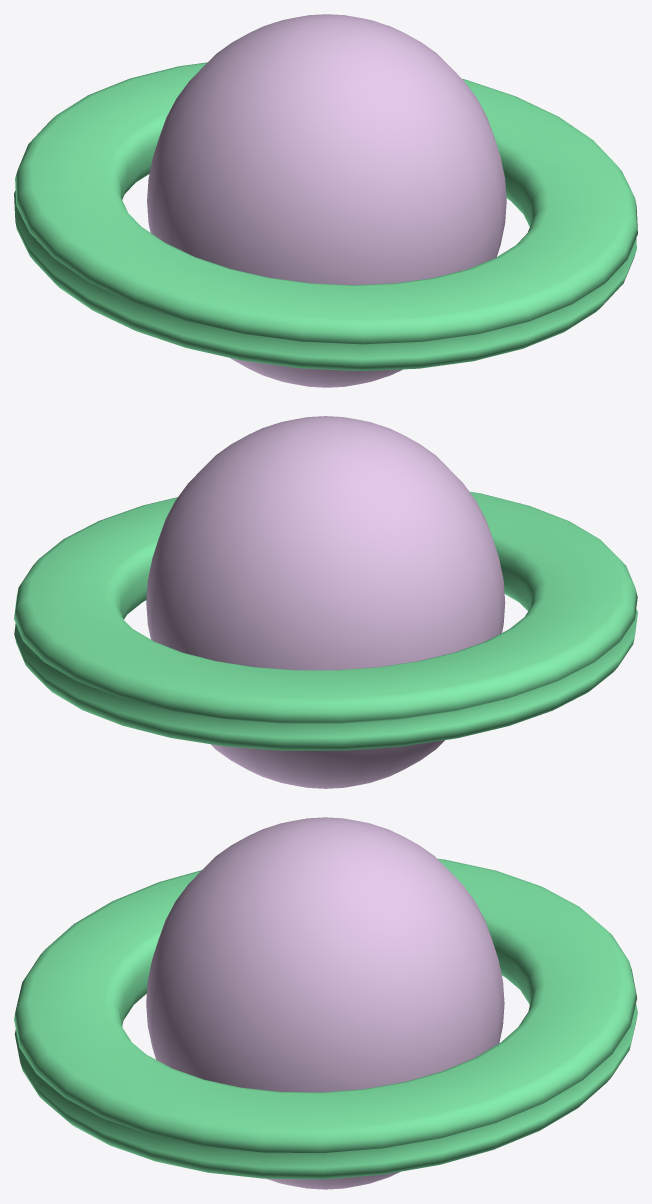
File: planetOne.gltf
3 renders of one model, top to bottom at view 1: azimuth 30°, elevation 25°; view 2: azimuth 150°, elevation 25°; view 3: azimuth 270°, elevation 25°, orthographic.
Visible parts, largest first — view 1: Cylinder, Sphere; view 2: Sphere, Cylinder; view 3: Cylinder, Sphere.
Boxes of the visible parts, bbox=[...] form: Cylinder: bbox=[14, 62, 637, 370]; Sphere: bbox=[147, 14, 506, 387]; Sphere: bbox=[146, 416, 505, 788]; Cylinder: bbox=[14, 491, 637, 750]; Cylinder: bbox=[14, 858, 637, 1179]; Sphere: bbox=[146, 817, 504, 1189].
Bounding box in the file's own units: 3.29 × 1.98 × 3.29.
